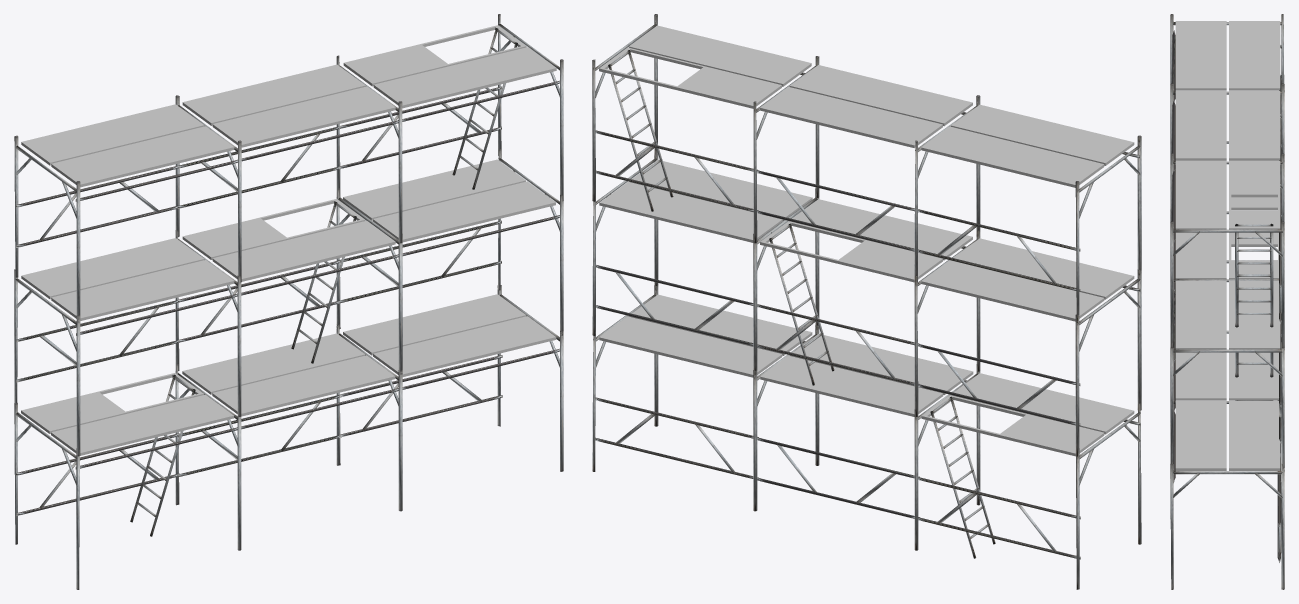
The model's file is scaffolding_300.fbx.
The picture shows the model from 3 angles, left to right: view 1: azimuth 30°, elevation 25°; view 2: azimuth 150°, elevation 25°; view 3: azimuth 270°, elevation 25°; orthographic projection. The views are drawn at different scales.
Parts seen in each view (by area): view 1: floor700, frame700, ladders700; view 2: floor700, frame700, ladders700; view 3: floor700, frame700, ladders700.
Part boxes in pixels (box(x1,y1,x2,y2)): floor700: box(21, 25, 556, 455); frame700: box(14, 14, 563, 589); ladders700: box(130, 28, 517, 536); floor700: box(599, 25, 1134, 456); frame700: box(592, 14, 1141, 589); ladders700: box(608, 50, 995, 558); floor700: box(1175, 21, 1280, 470); frame700: box(1170, 14, 1284, 589); ladders700: box(1235, 223, 1273, 400).
Bounding box in the file's own units: 15 × 12.13 × 3.41.
